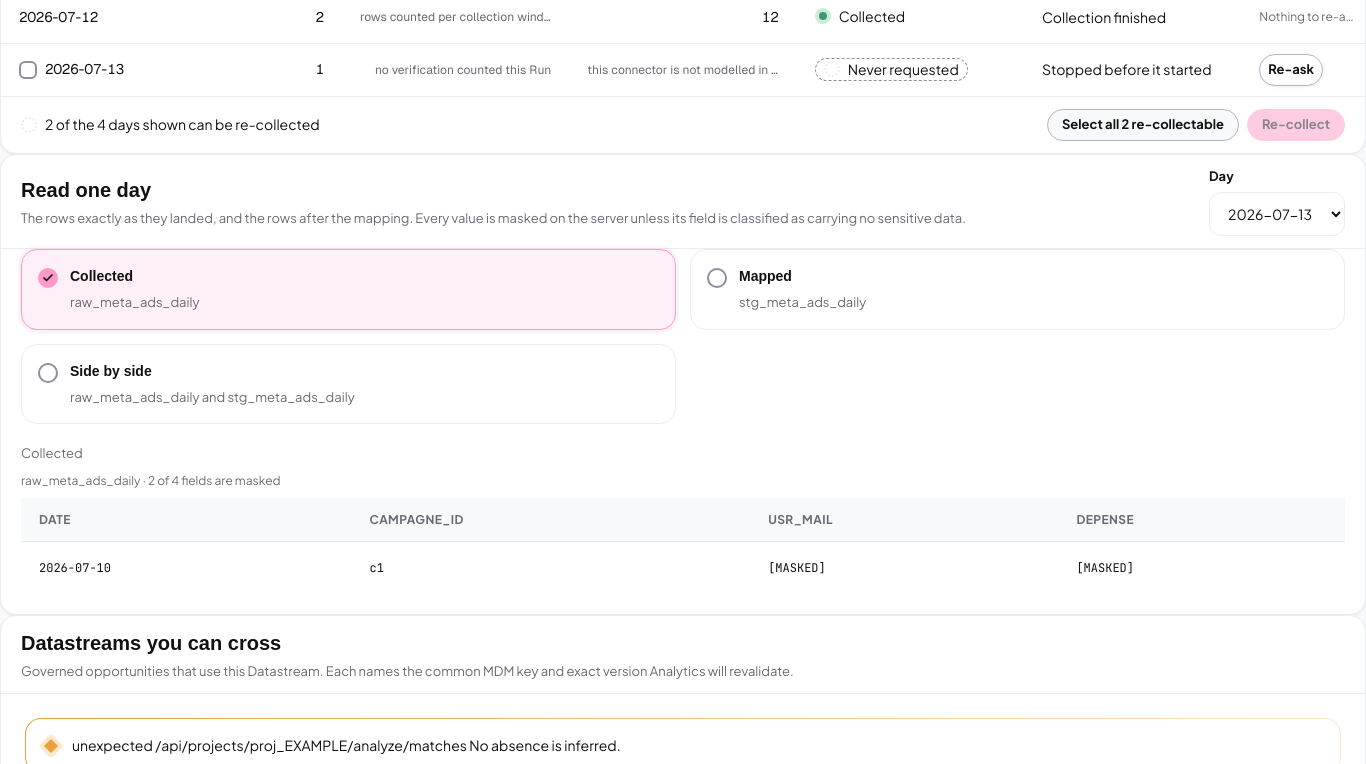
Test case: Data tab, read by day › tells a pairing that refused from a route that sent none
The image size is (1366, 764).
(page scrolled)
Click the radio button labelled "Side by side". click: x=111, y=371
box: [21,344,676,424]
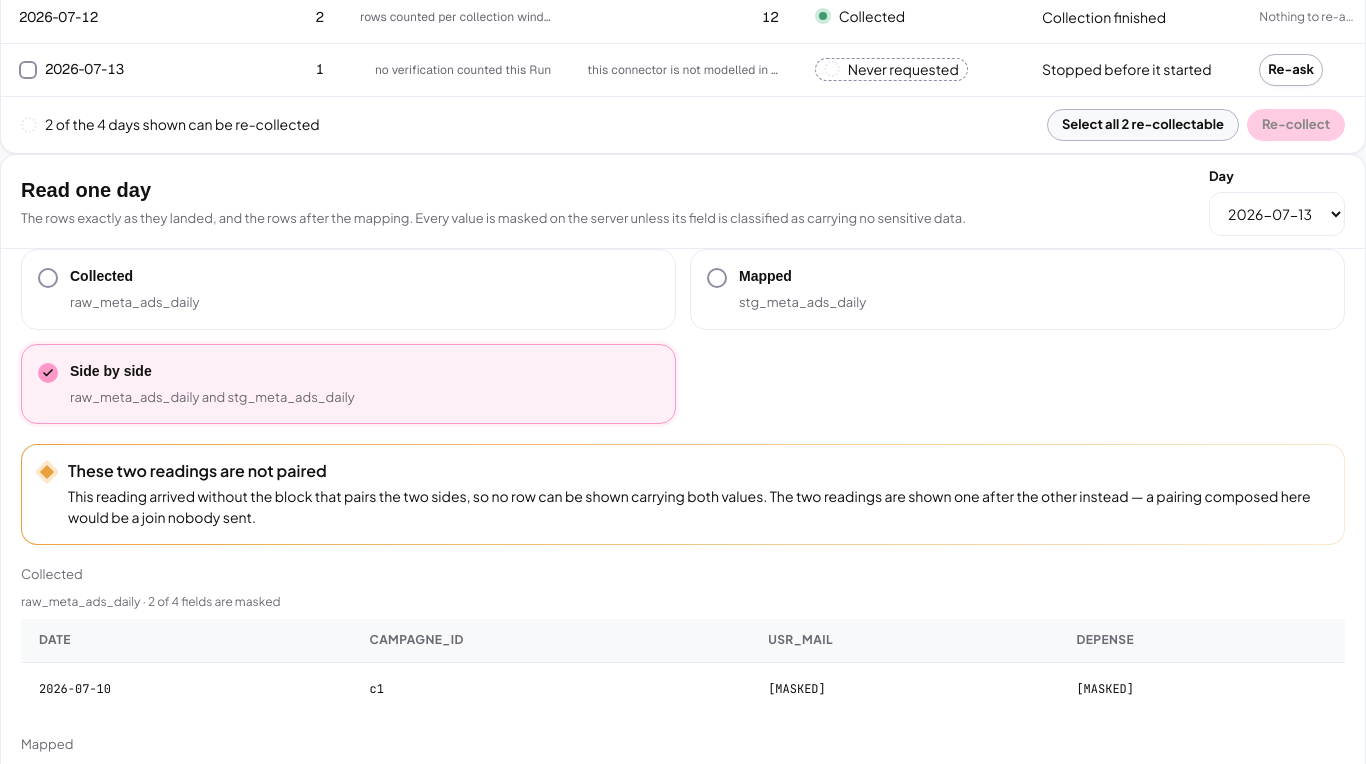
Expected: the element with test id "reading-collected" is shown, [21,565,1345,715]
Expected: the text "arrived without the block that pairs the two sides" is shown, [68,487,1311,526]
